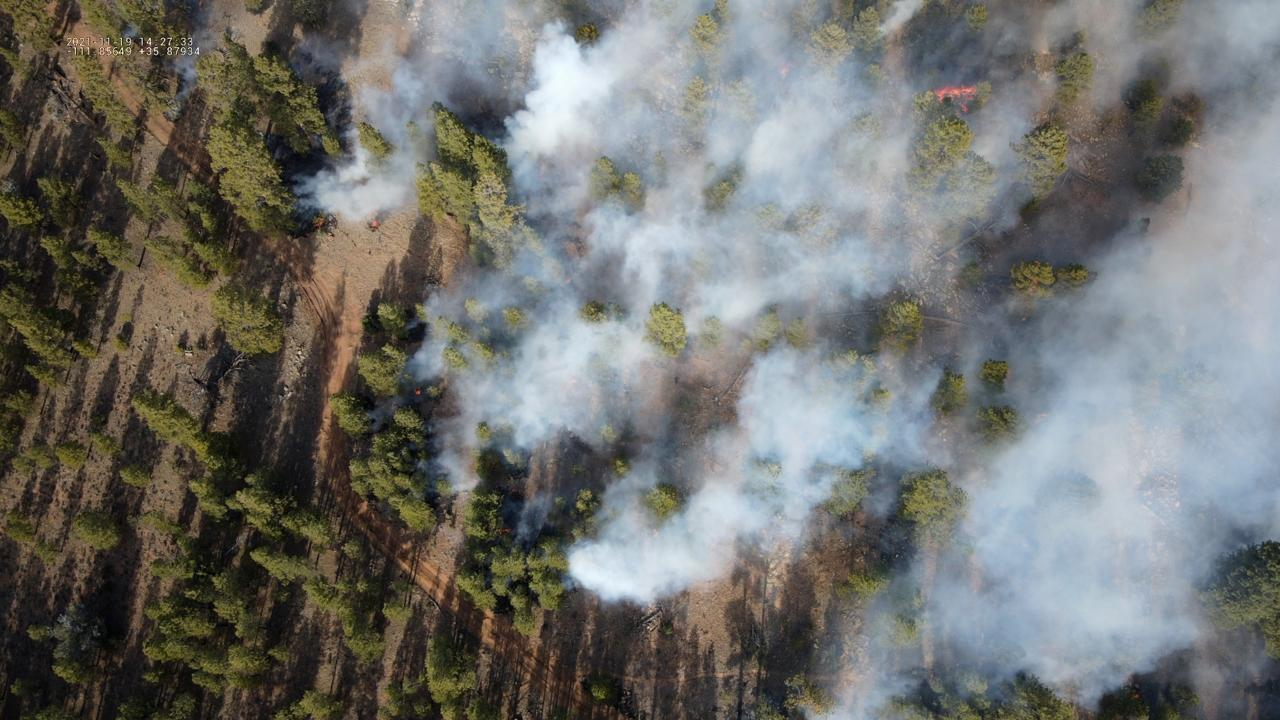fire: (933, 85, 978, 113), (314, 217, 325, 231), (370, 220, 380, 230), (501, 528, 513, 534), (414, 389, 422, 397), (197, 0, 204, 9)
smoke: (287, 0, 1280, 720), (170, 0, 223, 103), (119, 23, 141, 37)
